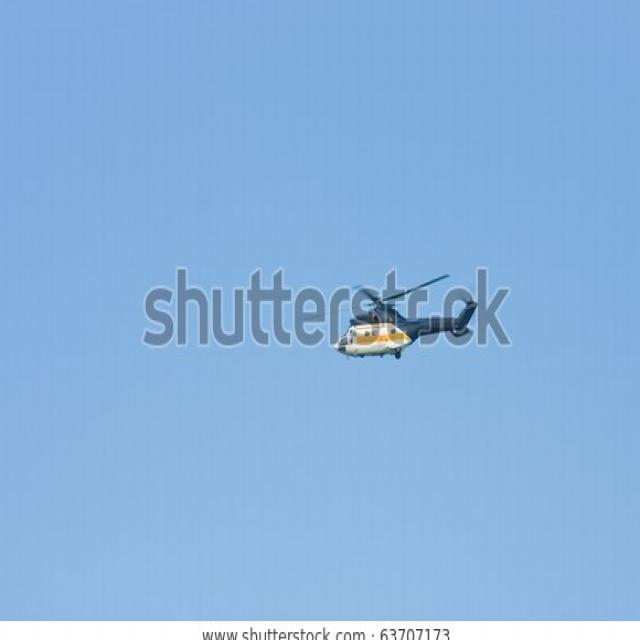helicopter: (336, 276, 479, 369)
